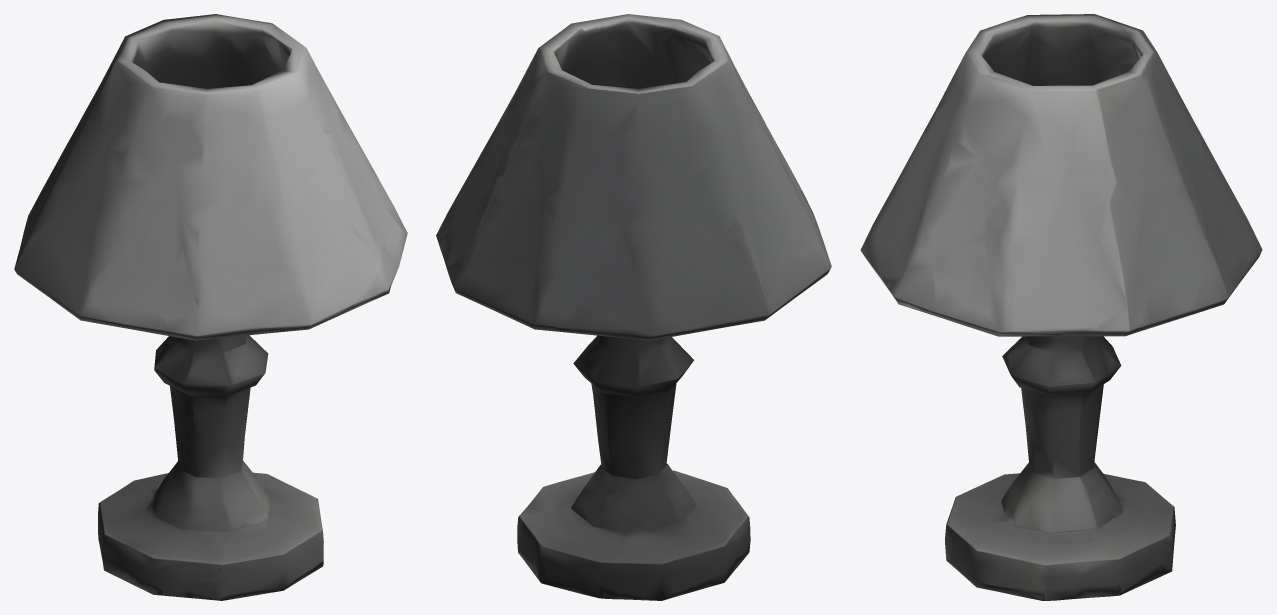
The model's file is low+poly+lamp+3d+model.glb.
3 views of the same model, side by side, from view 1: azimuth 30°, elevation 25°; view 2: azimuth 150°, elevation 25°; view 3: azimuth 270°, elevation 25° (orthographic).
Visible parts, largest first — view 1: tripo_node_ef2da29a-9bb9-42c8-a9ba-99d57d521f59; view 2: tripo_node_ef2da29a-9bb9-42c8-a9ba-99d57d521f59; view 3: tripo_node_ef2da29a-9bb9-42c8-a9ba-99d57d521f59.
Part boxes in pixels (x1=…): tripo_node_ef2da29a-9bb9-42c8-a9ba-99d57d521f59: x1=14, y1=14, x2=407, y2=600; tripo_node_ef2da29a-9bb9-42c8-a9ba-99d57d521f59: x1=436, y1=14, x2=831, y2=600; tripo_node_ef2da29a-9bb9-42c8-a9ba-99d57d521f59: x1=860, y1=14, x2=1262, y2=600.
Bounding box in the file's own units: 0.7 × 1 × 0.7281.
Materials: 1 (1 with a texture image).
